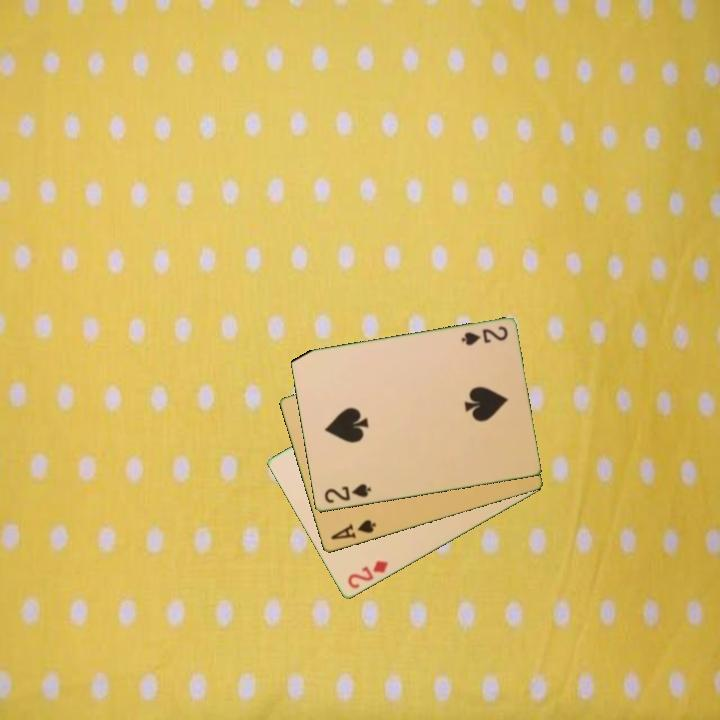2d: (344, 557, 391, 592)
2s: (321, 480, 374, 506), (458, 323, 511, 349)
As: (327, 516, 379, 543)
